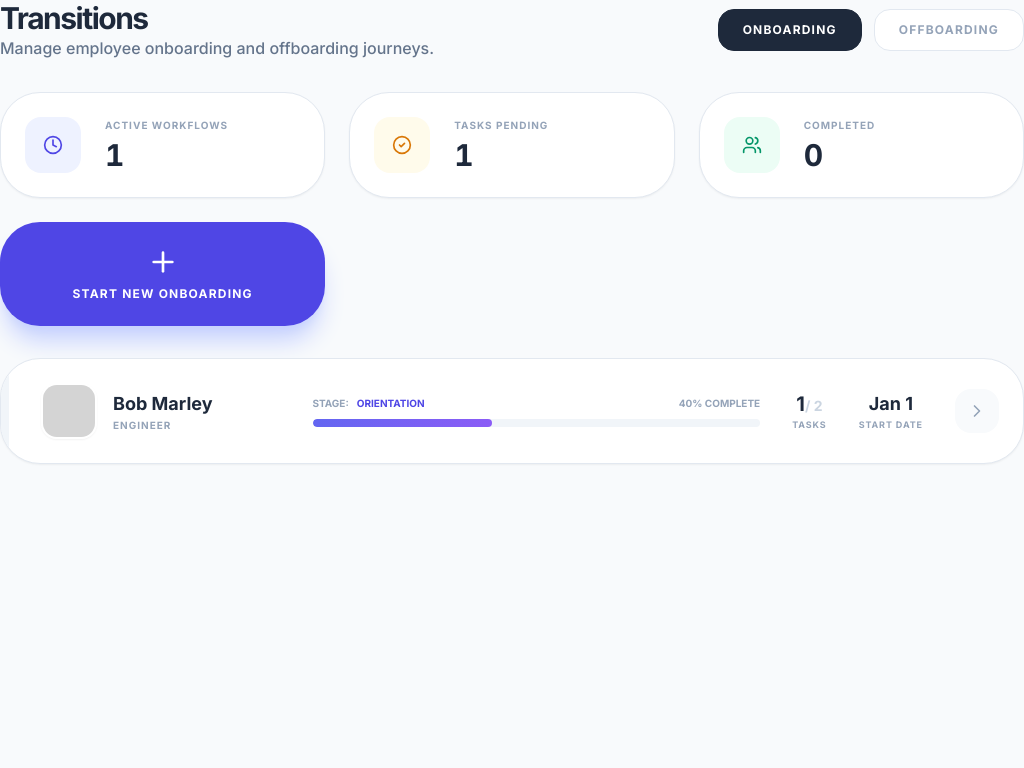
Test: Onboarding (admin transitions board) › restricts the "Start New Offboarding" candidate picker to active employees not already mid-journey
What coordinates should you click on to do the following:
click the button "Offboarding"
I would click on:
 (949, 30)
Its box is [874,9,1023,51].
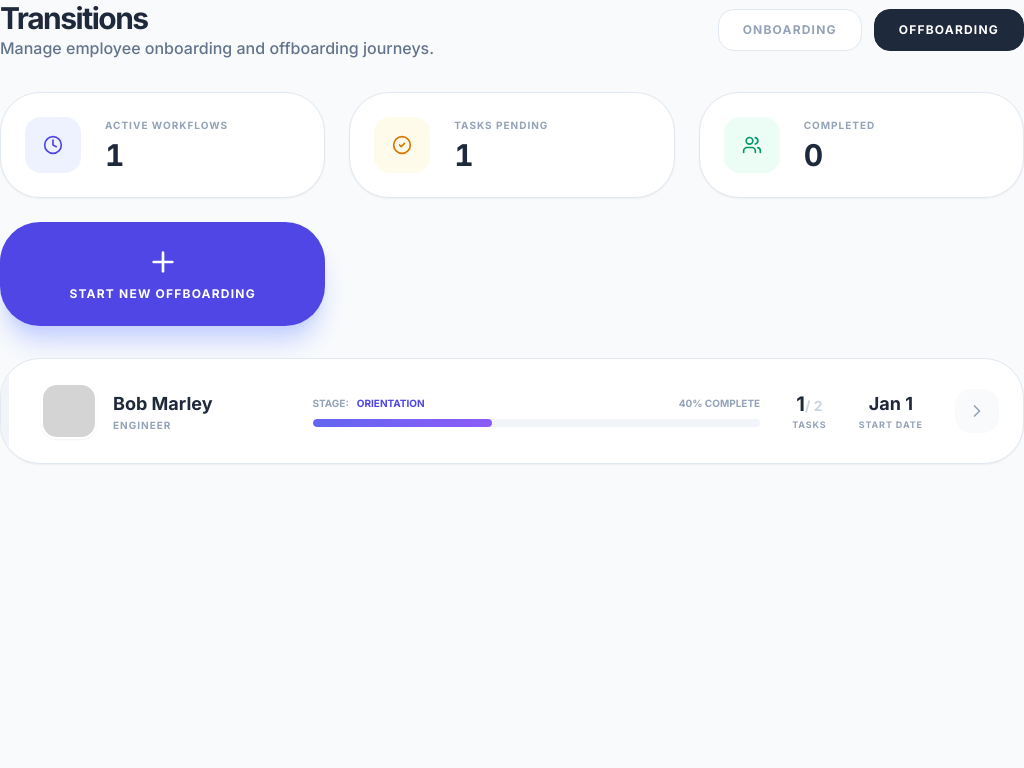
What coordinates should you click on to do the following:
click the button "Start New Offboarding"
I would click on:
 (163, 274)
Its box is [0,222,325,326].
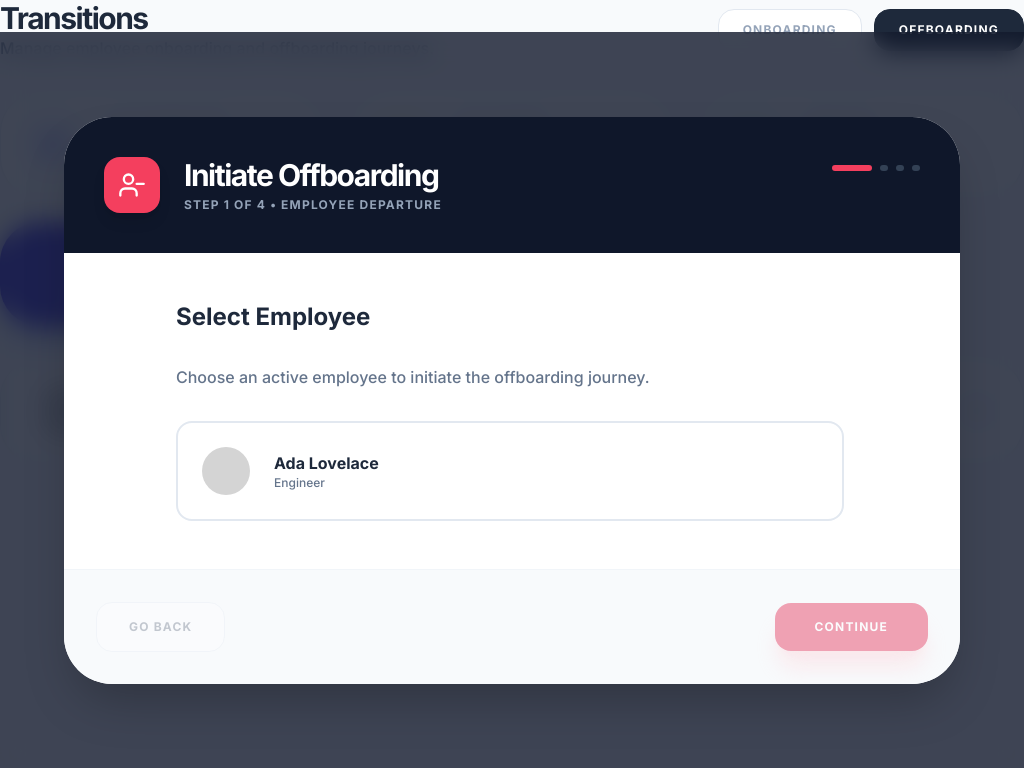
Expected: the heading "Ada Lovelace" is shown, [274,450,379,474]
